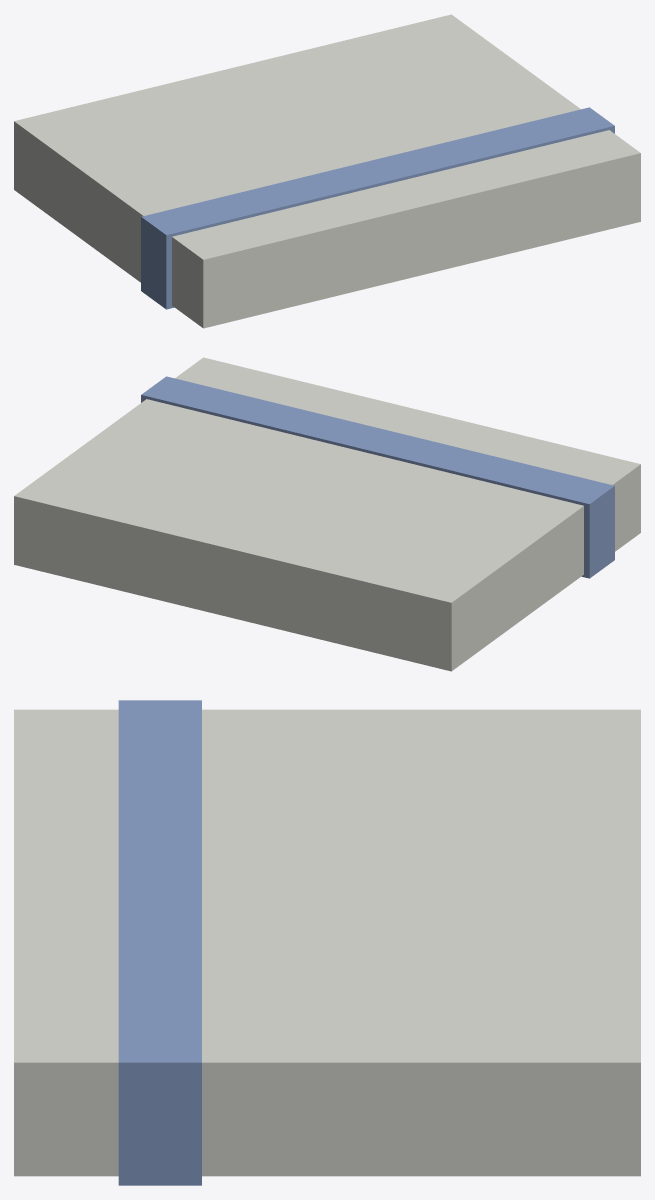
The model's file is bed_sheet.glb.
The picture shows the model from 3 angles, top to bottom: view 1: azimuth 30°, elevation 25°; view 2: azimuth 150°, elevation 25°; view 3: azimuth 270°, elevation 25°; orthographic projection. The views are drawn at different scales.
Parts seen in each view (by area): view 1: sheet_sheet_white, stripe_sheet_stripe; view 2: sheet_sheet_white, stripe_sheet_stripe; view 3: sheet_sheet_white, stripe_sheet_stripe.
Part boxes in pixels (x1,y1,x2,y2): sheet_sheet_white: [14, 14, 640, 328]; stripe_sheet_stripe: [141, 107, 614, 309]; sheet_sheet_white: [14, 357, 640, 671]; stripe_sheet_stripe: [141, 376, 614, 578]; sheet_sheet_white: [14, 709, 640, 1176]; stripe_sheet_stripe: [118, 700, 201, 1185].
Size of the model in its own units: 0.41 by 0.065 by 0.3.
